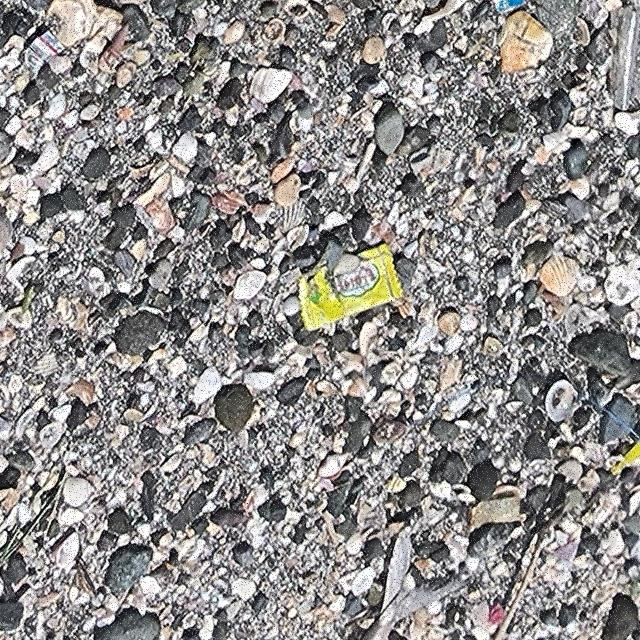plastic_waste: (298, 242, 407, 335)
